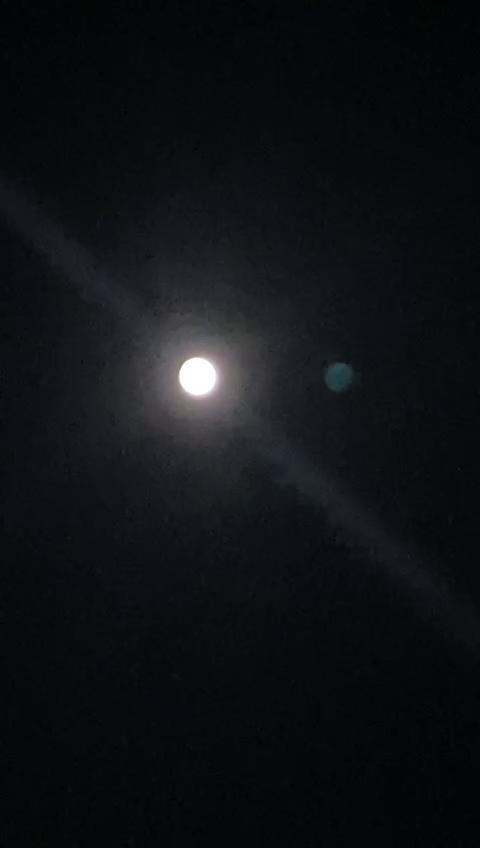moon: (169, 350, 228, 406)
